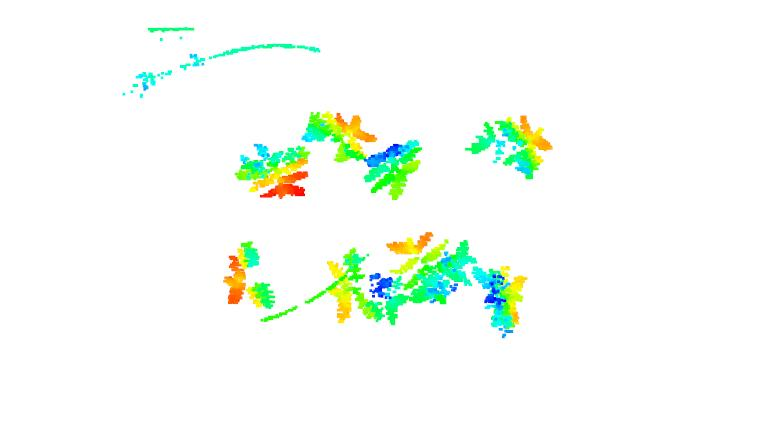chickpea: (387, 230, 479, 305), (464, 114, 556, 179), (323, 248, 396, 326), (233, 142, 310, 199), (303, 110, 378, 165), (219, 240, 277, 309), (471, 264, 528, 332), (363, 139, 426, 200)
